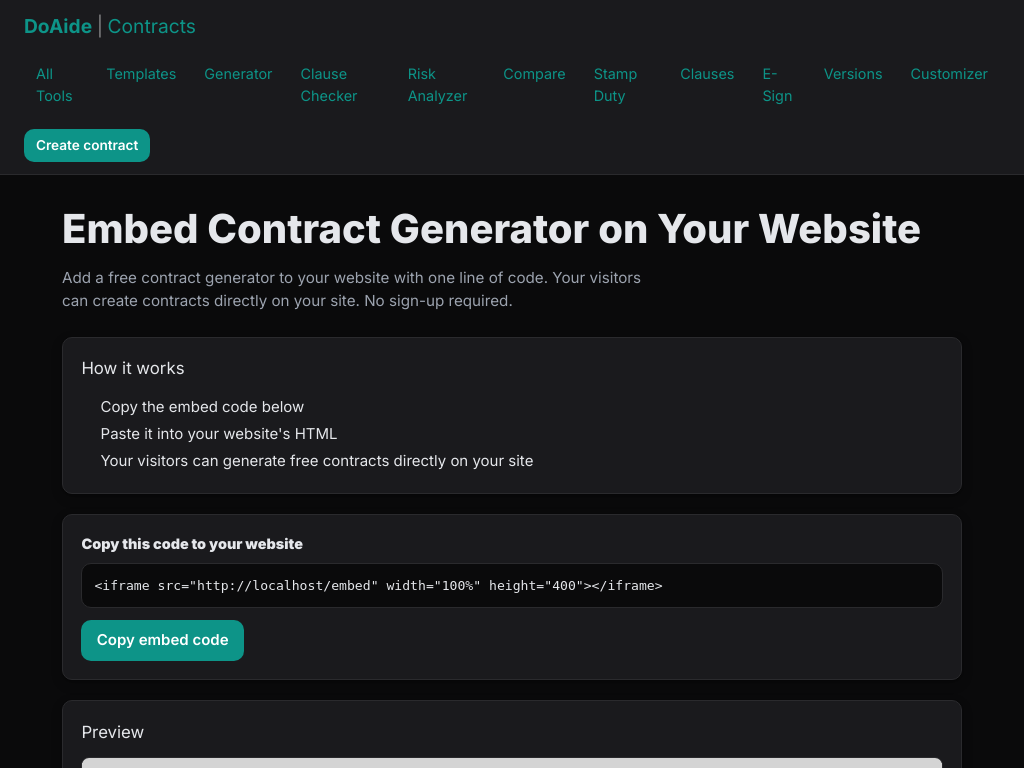
Scenario: EmbedPage › copies snippet on button click
Click the button "Copy embed code". click: (163, 640)
box: [81,620,244,661]
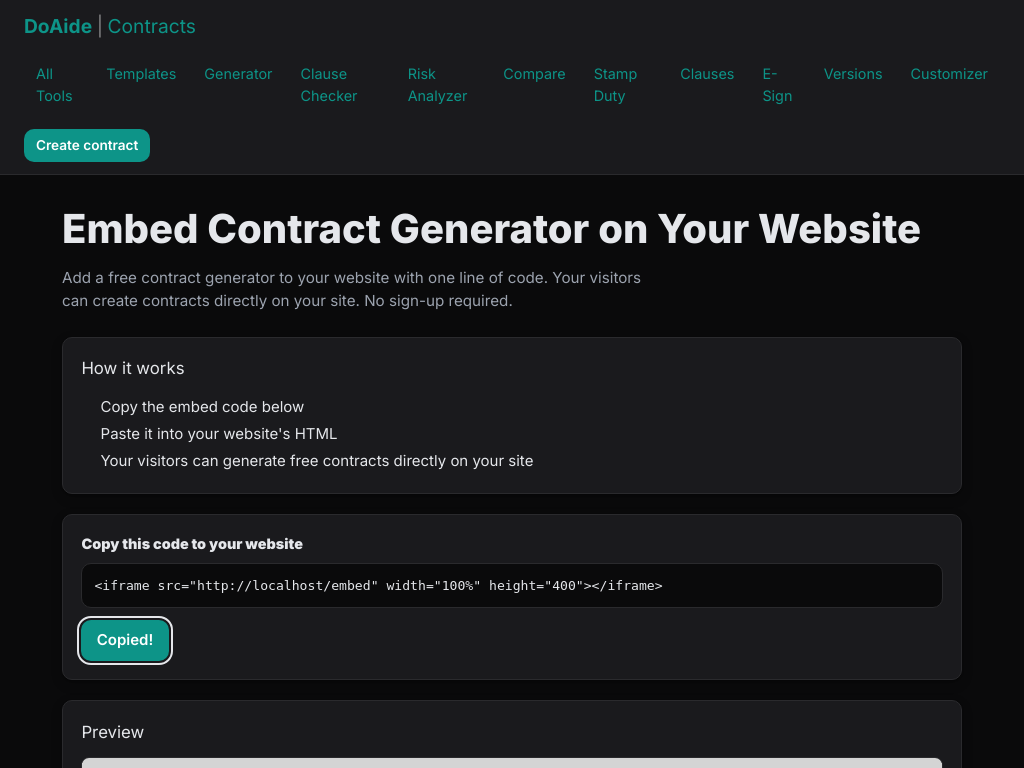
Result: the button "Copied!" is shown at [81,620,169,661]
